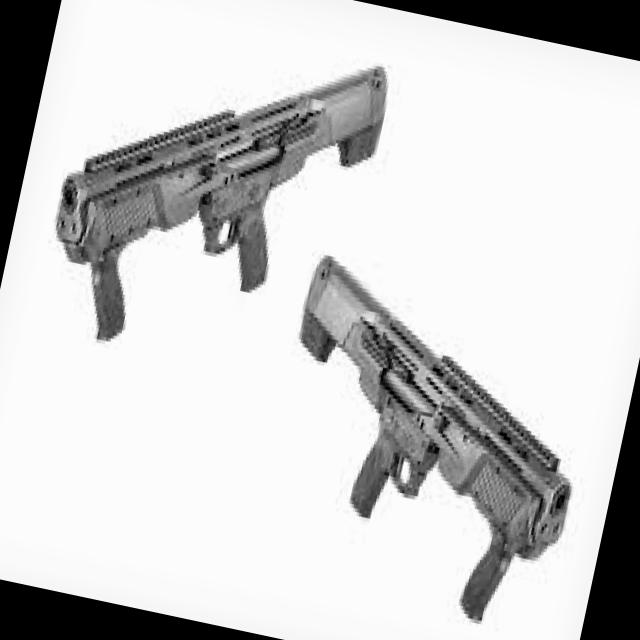long weapon: (269, 242, 620, 640), (51, 40, 400, 397)
